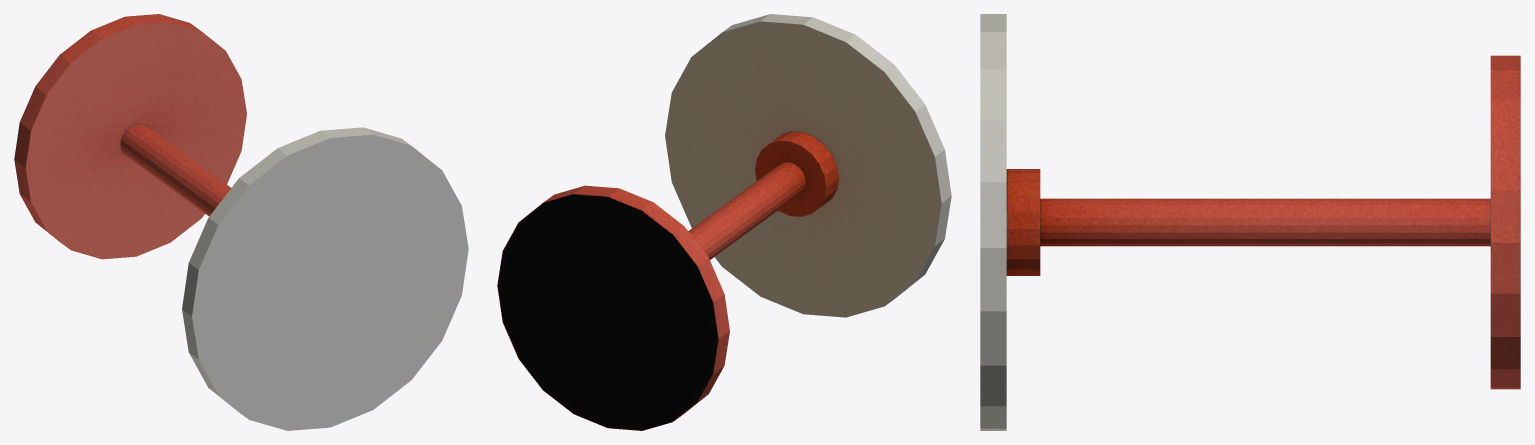
The picture shows the model from 3 angles, left to right: view 1: azimuth 30°, elevation 25°; view 2: azimuth 150°, elevation 25°; view 3: azimuth 270°, elevation 25°; orthographic projection. The views are drawn at different scales.
Parts seen in each view (by area): view 1: B3_final.001; view 2: B3_final.001; view 3: B3_final.001.
Part boxes in pixels (<box>): B3_final.001: <box>14,14,468,430</box>; B3_final.001: <box>497,14,951,430</box>; B3_final.001: <box>980,14,1520,430</box>.
Size of the model in its own units: 0.35 by 0.35 by 0.45.
1 material, 1 textured.
